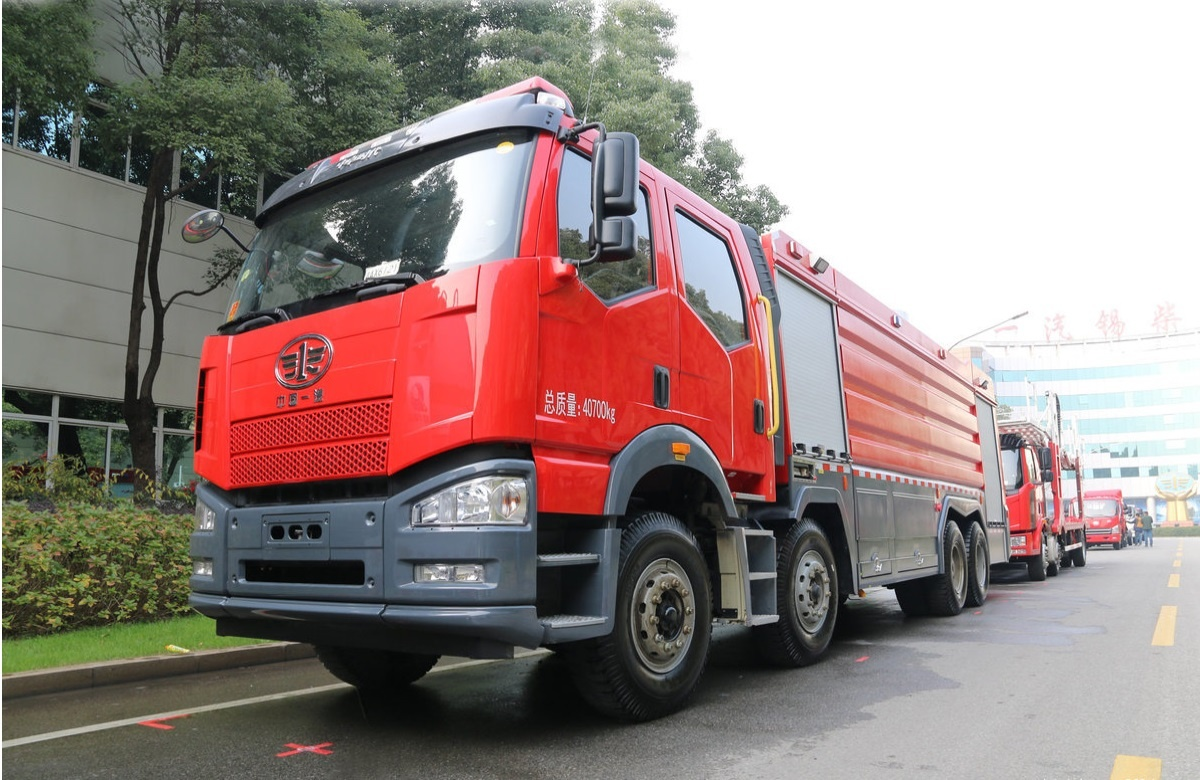heavy truck: (196, 77, 1009, 702)
